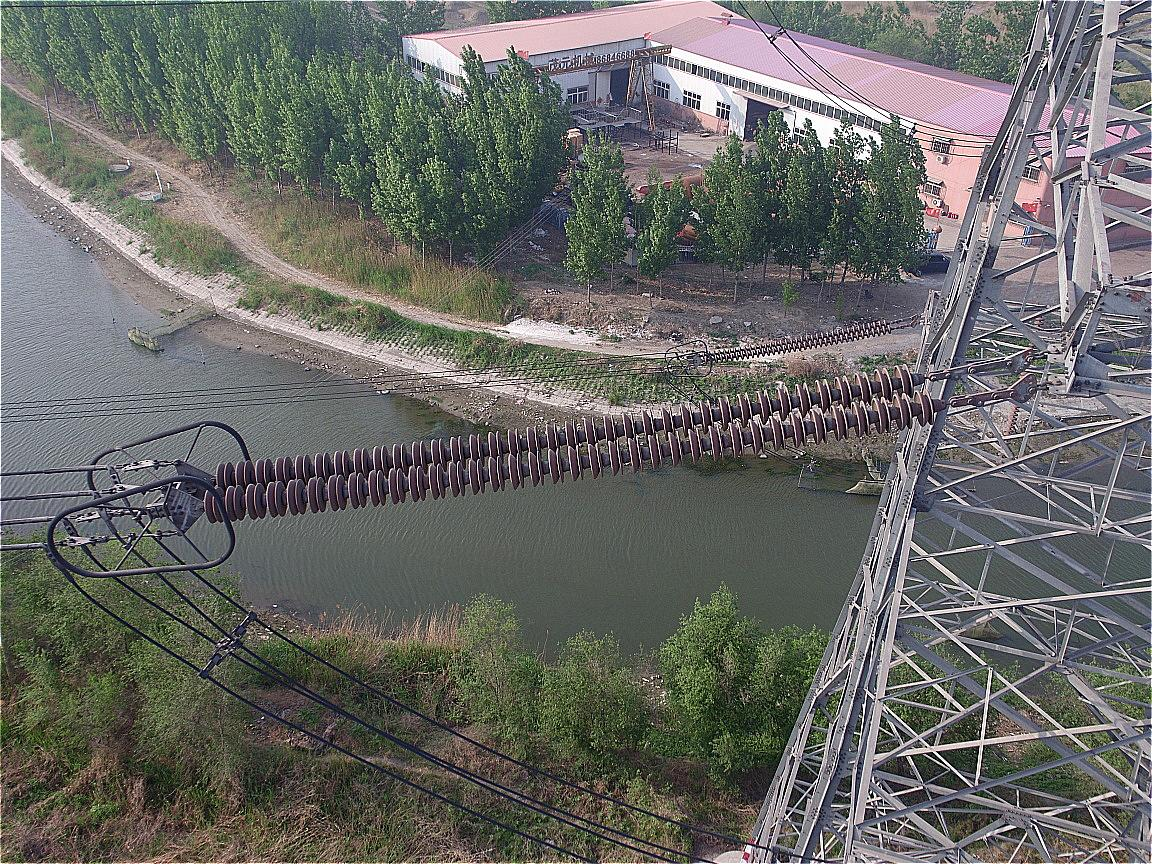insultor1: (713, 319, 893, 365)
insultor2: (203, 363, 933, 523)
